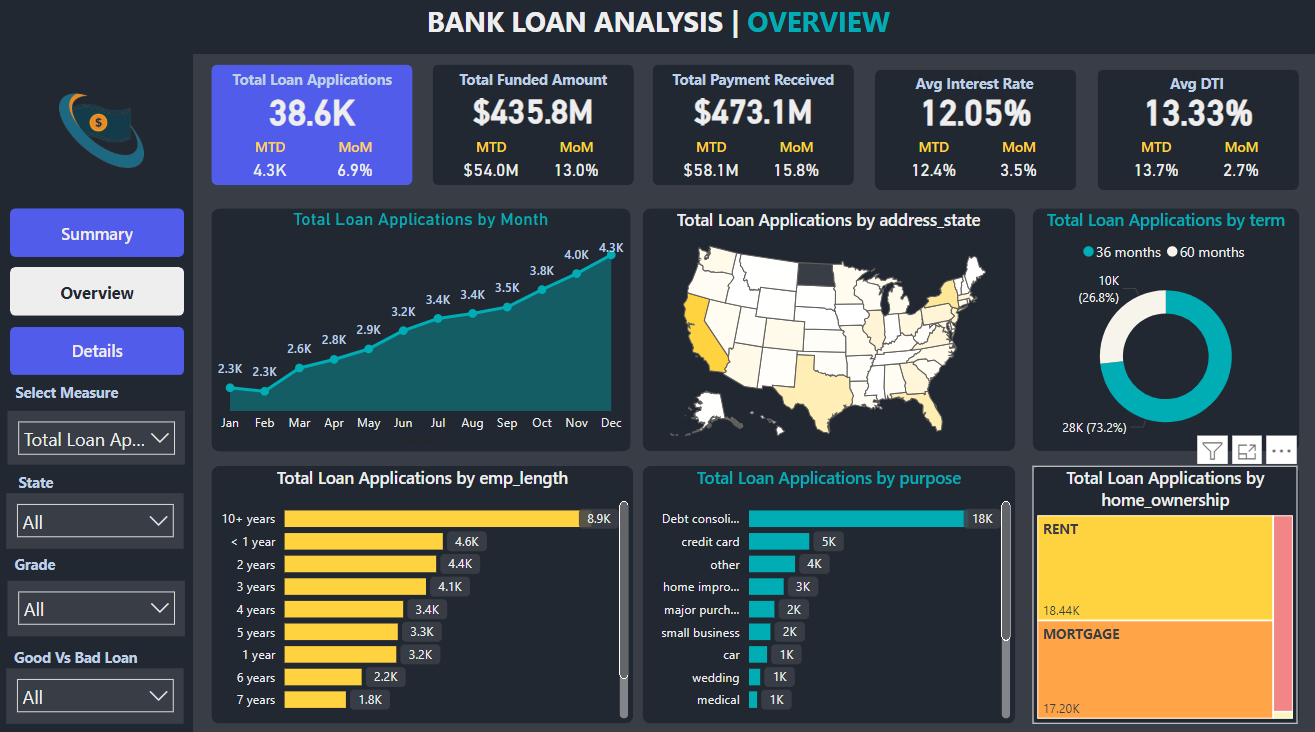

What the dashboard file says about the page in this screenshot:
{"tool":"powerbi","page":{"name":"Overview","canvas":[1280,720],"ordinal":1},"visuals":[{"type":"shape","box":[0,0,1280.2,55],"z":0},{"type":"shape","box":[208.8,64.6,194.4,116.6],"z":0,"group":"g1"},{"type":"shape","box":[422,64.6,194.4,116.6],"z":0,"group":"g2"},{"type":"shape","box":[635.2,64.6,194.4,116.6],"z":0,"group":"g5"},{"type":"shape","box":[849.6,69.2,194.4,116.6],"z":0,"group":"g3"},{"type":"shape","box":[1063.9,69.2,194.4,116.6],"z":0,"group":"g4"},{"type":"card","fields":{"Values":["Measures Table.Total Loan Applications"]},"box":[208.8,81.9,194.4,53.3],"z":1000,"group":"g1"},{"type":"card","fields":{"Values":["Measures Table.Total Funded Amount"]},"box":[422,81.9,194.4,53.3],"z":1000,"group":"g2"},{"type":"card","fields":{"Values":["Measures Table.Total Payment Received"]},"box":[635.2,81.9,194.4,53.3],"z":1000,"group":"g5"},{"type":"card","fields":{"Values":["Measures Table.Avg Interest Rate"]},"box":[849.3,81.9,194.4,53.3],"z":1000,"group":"g3"},{"type":"card","fields":{"Values":["Measures Table.Avg DTI"]},"box":[1063.6,81.9,194.4,53.3],"z":1000,"group":"g4"},{"type":"shape","box":[208.8,204.5,405,235],"z":1000},{"type":"shape","box":[0,54.7,191.5,665.3],"z":2000},{"type":"textbox","box":[208.8,64.6,194.4,40.3],"z":2000,"group":"g1"},{"type":"textbox","box":[422,64.6,194.4,40.3],"z":2000,"group":"g2"},{"type":"textbox","box":[635.2,64.6,194.4,40.3],"z":2000,"group":"g5"},{"type":"textbox","box":[849.3,64.6,194.4,40.3],"z":2000,"group":"g3"},{"type":"textbox","box":[1063.6,64.6,194.4,40.3],"z":2000,"group":"g4"},{"type":"card","title":"MTD","fields":{"Values":["Measures Table.MTD Loan Applications"]},"box":[224.6,135.2,82.1,47.5],"z":3000,"group":"g1"},{"type":"card","title":"MTD","fields":{"Values":["Measures Table.MTD Funded Amount"]},"box":[437.8,135.2,82.1,47.5],"z":3000,"group":"g2"},{"type":"card","title":"MTD","fields":{"Values":["Measures Table.MTD Payment Received"]},"box":[651,135.2,82.1,47.5],"z":3000,"group":"g5"},{"type":"card","title":"MTD","fields":{"Values":["Measures Table.MTD Interest Rate"]},"box":[865.2,135.2,82.1,47.5],"z":3000,"group":"g3"},{"type":"card","title":"MTD","fields":{"Values":["Measures Table.MTD DTI"]},"box":[1079.5,135.2,82.1,47.5],"z":3000,"group":"g4"},{"type":"textbox","box":[11.5,453.6,54.7,36],"z":3000},{"type":"textbox","box":[0,0,1280.2,54.7],"z":4000},{"type":"card","title":"MoM","fields":{"Values":["Measures Table.MoM Loan Application"]},"box":[306.7,135.2,82.1,47.5],"z":4000,"group":"g1"},{"type":"card","title":"MoM","fields":{"Values":["Measures Table.MoM Funded Amount"]},"box":[519.9,135.2,82.1,47.5],"z":4000,"group":"g2"},{"type":"card","title":"MoM","fields":{"Values":["Measures Table.MoM Payment Received"]},"box":[733.1,135.2,82.1,47.5],"z":4000,"group":"g5"},{"type":"card","title":"MoM","fields":{"Values":["Measures Table.MoM Interest Rate"]},"box":[947.2,135.2,82.1,47.5],"z":4000,"group":"g3"},{"type":"card","title":"MoM","fields":{"Values":["Measures Table.MoM DTI"]},"box":[1161.5,135.2,82.1,47.5],"z":4000,"group":"g4"},{"type":"group","id":"g1","title":"Total Loan Application","box":[208.8,64.6,194.4,118.1],"z":5000},{"type":"textbox","box":[848.4,68.1,194.4,40.3],"z":5000,"group":"g3"},{"type":"textbox","box":[1062.7,68.1,194.4,40.3],"z":5000,"group":"g4"},{"type":"group","id":"g2","title":"Total Funded Amount","box":[422,64.6,194.4,118.1],"z":6000},{"type":"group","id":"g3","title":"Avg Interest Rate","box":[848.4,64.6,195.6,121.2],"z":7000},{"type":"group","id":"g4","title":"Avg DTI","box":[1062.7,64.6,195.8,121],"z":8000},{"type":"group","id":"g5","title":"Total Payment Received","box":[635.2,64.6,194.4,118.1],"z":9000},{"type":"slicer","fields":{"Values":["bank_loan_data.address_state"]},"box":[10.4,479.5,171.4,53.3],"z":10000},{"type":"textbox","box":[10.1,532.8,57.6,47.5],"z":11000},{"type":"slicer","fields":{"Values":["bank_loan_data.grade"]},"box":[11.8,563,171.4,53.3],"z":12000},{"type":"textbox","box":[7.2,622.1,141.1,36],"z":13000},{"type":"slicer","fields":{"Values":["bank_loan_data.Good vs Bad Loan"]},"box":[10.4,647.8,171.4,53.3],"z":14000},{"type":"areaChart","fields":{"Y":["Measures Table.Total Loan Applications"],"Category":["Date Table.Month"]},"box":[208.8,204.5,404.6,234.7],"z":15000},{"type":"slicer","fields":{"Values":["Select Measure.Select Measure"]},"box":[11.8,398.9,171.4,51.8],"z":16000},{"type":"textbox","box":[7.2,367.2,123.8,44.6],"z":17000},{"type":"shape","box":[625,204.5,360,234.7],"z":18000},{"type":"shapeMap","fields":{"Value":["Measures Table.Total Loan Applications"],"Category":["bank_loan_data.address_state"]},"box":[623.5,204.5,361.4,234.7],"z":19000},{"type":"shape","box":[1000.8,204.5,257.8,234.7],"z":20000},{"type":"donutChart","fields":{"Y":["Measures Table.Total Loan Applications"],"Category":["bank_loan_data.term"]},"box":[1000.8,204.5,257.8,234.7],"z":21000},{"type":"shape","box":[208.8,452.2,407.5,249.1],"z":22000},{"type":"shape","box":[625,452.2,360,249.1],"z":23000},{"type":"shape","box":[1000.8,452.2,257.8,249.1],"z":24000},{"type":"barChart","fields":{"Y":["Measures Table.Total Loan Applications"],"Category":["bank_loan_data.emp_length"]},"box":[208.8,452.2,407.5,249.1],"z":25000},{"type":"barChart","fields":{"Y":["Measures Table.Total Loan Applications"],"Category":["bank_loan_data.purpose"]},"box":[625,452.2,360,249.1],"z":26000},{"type":"treemap","fields":{"Values":["Measures Table.Total Loan Applications"],"Group":["bank_loan_data.home_ownership"]},"box":[1000.8,452.2,256.3,249.1],"z":27000},{"type":"image","box":[7.2,54.7,191.5,149.8],"z":28000},{"type":"pageNavigator","box":[14.4,204.5,168.5,161.3],"z":29000}]}

Visuals, with their boxes in screenshot pixels (x1, y1, x2, y2), scaled from the page's 1280x720 canvas onto the 1315x732 screenshot:
shape: l=0, t=0, r=1314, b=56
shape: l=215, t=66, r=414, b=184
shape: l=434, t=66, r=633, b=184
shape: l=653, t=66, r=852, b=184
shape: l=873, t=70, r=1073, b=189
shape: l=1093, t=70, r=1293, b=189
card - Measures Table.Total Loan Applications: l=215, t=83, r=414, b=137
card - Measures Table.Total Funded Amount: l=434, t=83, r=633, b=137
card - Measures Table.Total Payment Received: l=653, t=83, r=852, b=137
card - Measures Table.Avg Interest Rate: l=873, t=83, r=1072, b=137
card - Measures Table.Avg DTI: l=1093, t=83, r=1292, b=137
shape: l=215, t=208, r=631, b=447
shape: l=0, t=56, r=197, b=731
textbox: l=215, t=66, r=414, b=107
textbox: l=434, t=66, r=633, b=107
textbox: l=653, t=66, r=852, b=107
textbox: l=873, t=66, r=1072, b=107
textbox: l=1093, t=66, r=1292, b=107
"MTD" card: l=231, t=137, r=315, b=186
"MTD" card: l=450, t=137, r=534, b=186
"MTD" card: l=669, t=137, r=753, b=186
"MTD" card: l=889, t=137, r=973, b=186
"MTD" card: l=1109, t=137, r=1193, b=186
textbox: l=12, t=461, r=68, b=498
textbox: l=0, t=0, r=1314, b=56
"MoM" card: l=315, t=137, r=399, b=186
"MoM" card: l=534, t=137, r=618, b=186
"MoM" card: l=753, t=137, r=837, b=186
"MoM" card: l=973, t=137, r=1057, b=186
"MoM" card: l=1193, t=137, r=1278, b=186
"Total Loan Application" group: l=215, t=66, r=414, b=186
textbox: l=872, t=69, r=1071, b=110
textbox: l=1092, t=69, r=1291, b=110
"Total Funded Amount" group: l=434, t=66, r=633, b=186
"Avg Interest Rate" group: l=872, t=66, r=1073, b=189
"Avg DTI" group: l=1092, t=66, r=1293, b=189
"Total Payment Received" group: l=653, t=66, r=852, b=186
slicer - bank_loan_data.address_state: l=11, t=487, r=187, b=542
textbox: l=10, t=542, r=70, b=590
slicer - bank_loan_data.grade: l=12, t=572, r=188, b=627
textbox: l=7, t=632, r=152, b=669
slicer - bank_loan_data.Good vs Bad Loan: l=11, t=659, r=187, b=713
areaChart - Measures Table.Total Loan Applications x Date Table.Month: l=215, t=208, r=630, b=447
slicer - Select Measure.Select Measure: l=12, t=406, r=188, b=458
textbox: l=7, t=373, r=135, b=419
shape: l=642, t=208, r=1012, b=447
shapeMap - Measures Table.Total Loan Applications x bank_loan_data.address_state: l=641, t=208, r=1012, b=447
shape: l=1028, t=208, r=1293, b=447
donutChart - Measures Table.Total Loan Applications x bank_loan_data.term: l=1028, t=208, r=1293, b=447
shape: l=215, t=460, r=633, b=713
shape: l=642, t=460, r=1012, b=713
shape: l=1028, t=460, r=1293, b=713
barChart - Measures Table.Total Loan Applications x bank_loan_data.emp_length: l=215, t=460, r=633, b=713
barChart - Measures Table.Total Loan Applications x bank_loan_data.purpose: l=642, t=460, r=1012, b=713
treemap - Measures Table.Total Loan Applications x bank_loan_data.home_ownership: l=1028, t=460, r=1291, b=713
image: l=7, t=56, r=204, b=208
pageNavigator: l=15, t=208, r=188, b=372
